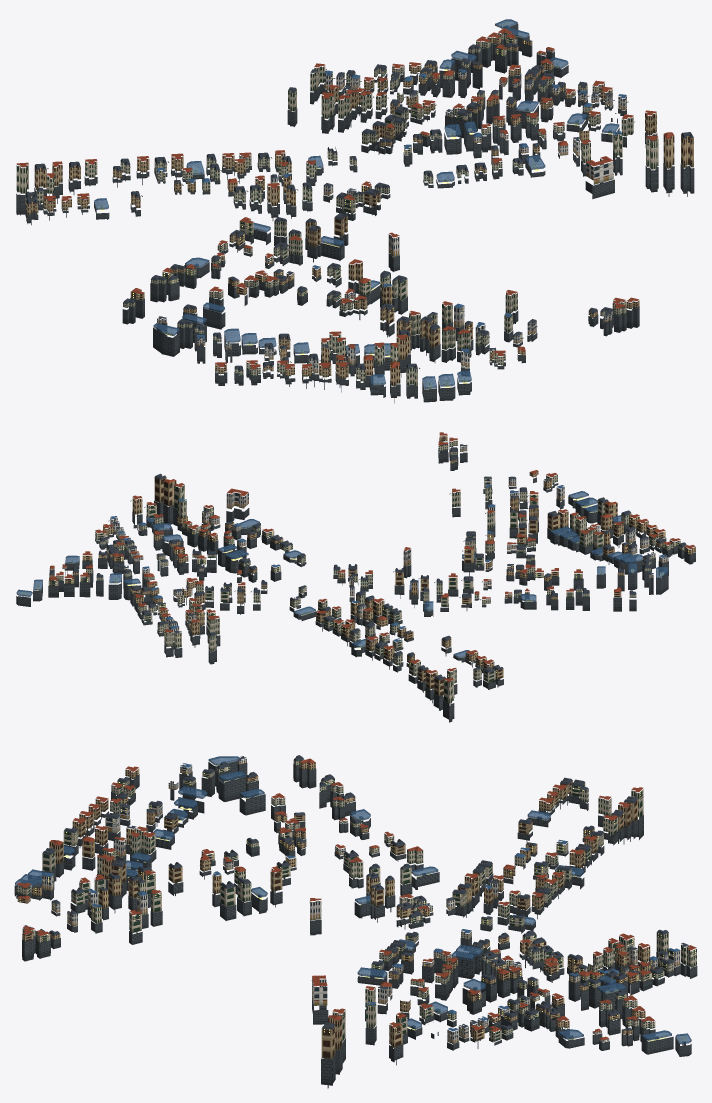
File: osm_buildings_T_W01_N01_Q1.glb
3 views of the same model, one above another, from view 1: azimuth 30°, elevation 25°; view 2: azimuth 150°, elevation 25°; view 3: azimuth 270°, elevation 25° (orthographic). The views are drawn at different scales.
Visible parts, largest first — view 1: OSM_PBR_T_W01_N01_Q1_foundation, OSM_PBR_T_W01_N01_Q1_wall_cream_stucco, OSM_PBR_T_W01_N01_Q1_wall_french_ochre, OSM_PBR_T_W01_N01_Q1_roof_terracotta, OSM_PBR_T_W01_N01_Q1_greenhouse_blend, OSM_PBR_T_W01_N01_Q1_roof_mansard_slate, OSM_PBR_T_W01_N01_Q1_roof_mansard_deck, OSM_PBR_T_W01_N01_Q1_wall_warm_white, OSM_PBR_T_W01_N01_Q1_wall_pastel_sand, OSM_PBR_T_W01_N01_Q1_roof_mint_metal, OSM_PBR_T_W01_N01_Q1_trim_cornice, OSM_PBR_T_W01_N01_Q1_roof_alpine_blue (+1 smaller); view 2: OSM_PBR_T_W01_N01_Q1_foundation, OSM_PBR_T_W01_N01_Q1_wall_cream_stucco, OSM_PBR_T_W01_N01_Q1_wall_french_ochre, OSM_PBR_T_W01_N01_Q1_roof_terracotta, OSM_PBR_T_W01_N01_Q1_roof_mansard_slate, OSM_PBR_T_W01_N01_Q1_greenhouse_blend, OSM_PBR_T_W01_N01_Q1_roof_mansard_deck, OSM_PBR_T_W01_N01_Q1_wall_warm_white, OSM_PBR_T_W01_N01_Q1_wall_pastel_sand, OSM_PBR_T_W01_N01_Q1_roof_mint_metal, OSM_PBR_T_W01_N01_Q1_balcony_railing, OSM_PBR_T_W01_N01_Q1_trim_cornice (+1 smaller); view 3: OSM_PBR_T_W01_N01_Q1_foundation, OSM_PBR_T_W01_N01_Q1_wall_cream_stucco, OSM_PBR_T_W01_N01_Q1_wall_french_ochre, OSM_PBR_T_W01_N01_Q1_roof_terracotta, OSM_PBR_T_W01_N01_Q1_greenhouse_blend, OSM_PBR_T_W01_N01_Q1_roof_mansard_slate, OSM_PBR_T_W01_N01_Q1_roof_mansard_deck, OSM_PBR_T_W01_N01_Q1_wall_warm_white, OSM_PBR_T_W01_N01_Q1_wall_pastel_sand, OSM_PBR_T_W01_N01_Q1_roof_mint_metal, OSM_PBR_T_W01_N01_Q1_trim_cornice, OSM_PBR_T_W01_N01_Q1_balcony_railing (+2 smaller).
Part boxes in pixels (left/top/right/bottom): OSM_PBR_T_W01_N01_Q1_foundation: left=16, top=24, right=694, bottom=403; OSM_PBR_T_W01_N01_Q1_wall_cream_stucco: left=16, top=33, right=658, bottom=385; OSM_PBR_T_W01_N01_Q1_wall_french_ochre: left=26, top=34, right=693, bottom=385; OSM_PBR_T_W01_N01_Q1_roof_terracotta: left=16, top=28, right=674, bottom=369; OSM_PBR_T_W01_N01_Q1_greenhouse_blend: left=94, top=19, right=619, bottom=388; OSM_PBR_T_W01_N01_Q1_roof_mansard_slate: left=25, top=38, right=693, bottom=370; OSM_PBR_T_W01_N01_Q1_roof_mansard_deck: left=26, top=24, right=692, bottom=388; OSM_PBR_T_W01_N01_Q1_wall_warm_white: left=197, top=49, right=626, bottom=373; OSM_PBR_T_W01_N01_Q1_wall_pastel_sand: left=157, top=53, right=612, bottom=369; OSM_PBR_T_W01_N01_Q1_roof_mint_metal: left=17, top=39, right=693, bottom=376; OSM_PBR_T_W01_N01_Q1_trim_cornice: left=18, top=34, right=692, bottom=373; OSM_PBR_T_W01_N01_Q1_roof_alpine_blue: left=157, top=69, right=626, bottom=352; OSM_PBR_T_W01_N01_Q1_foundation: left=16, top=438, right=695, bottom=722; OSM_PBR_T_W01_N01_Q1_wall_cream_stucco: left=48, top=439, right=686, bottom=703; OSM_PBR_T_W01_N01_Q1_wall_french_ochre: left=49, top=436, right=695, bottom=696; OSM_PBR_T_W01_N01_Q1_roof_terracotta: left=49, top=432, right=695, bottom=681; OSM_PBR_T_W01_N01_Q1_roof_mansard_slate: left=49, top=444, right=686, bottom=680; OSM_PBR_T_W01_N01_Q1_greenhouse_blend: left=16, top=491, right=668, bottom=657; OSM_PBR_T_W01_N01_Q1_roof_mansard_deck: left=20, top=447, right=684, bottom=678; OSM_PBR_T_W01_N01_Q1_wall_warm_white: left=49, top=446, right=668, bottom=628; OSM_PBR_T_W01_N01_Q1_wall_pastel_sand: left=62, top=478, right=655, bottom=640; OSM_PBR_T_W01_N01_Q1_roof_mint_metal: left=56, top=441, right=695, bottom=689; OSM_PBR_T_W01_N01_Q1_balcony_railing: left=50, top=437, right=688, bottom=687; OSM_PBR_T_W01_N01_Q1_trim_cornice: left=49, top=446, right=692, bottom=683; OSM_PBR_T_W01_N01_Q1_foundation: left=14, top=761, right=697, bottom=1088; OSM_PBR_T_W01_N01_Q1_wall_cream_stucco: left=16, top=759, right=696, bottom=1041; OSM_PBR_T_W01_N01_Q1_wall_french_ochre: left=17, top=762, right=650, bottom=1059; OSM_PBR_T_W01_N01_Q1_roof_terracotta: left=17, top=758, right=696, bottom=1039; OSM_PBR_T_W01_N01_Q1_greenhouse_blend: left=15, top=756, right=691, bottom=1044; OSM_PBR_T_W01_N01_Q1_roof_mansard_slate: left=24, top=756, right=688, bottom=1030; OSM_PBR_T_W01_N01_Q1_roof_mansard_deck: left=17, top=755, right=690, bottom=1043; OSM_PBR_T_W01_N01_Q1_wall_warm_white: left=23, top=765, right=657, bottom=1043; OSM_PBR_T_W01_N01_Q1_wall_pastel_sand: left=51, top=759, right=680, bottom=1038; OSM_PBR_T_W01_N01_Q1_roof_mint_metal: left=17, top=764, right=696, bottom=1038; OSM_PBR_T_W01_N01_Q1_trim_cornice: left=17, top=759, right=673, bottom=1039; OSM_PBR_T_W01_N01_Q1_balcony_railing: left=28, top=768, right=696, bottom=1033.
Bounding box in the file's own units: 1000 × 120 × 997.
18 materials, 16 textured.
